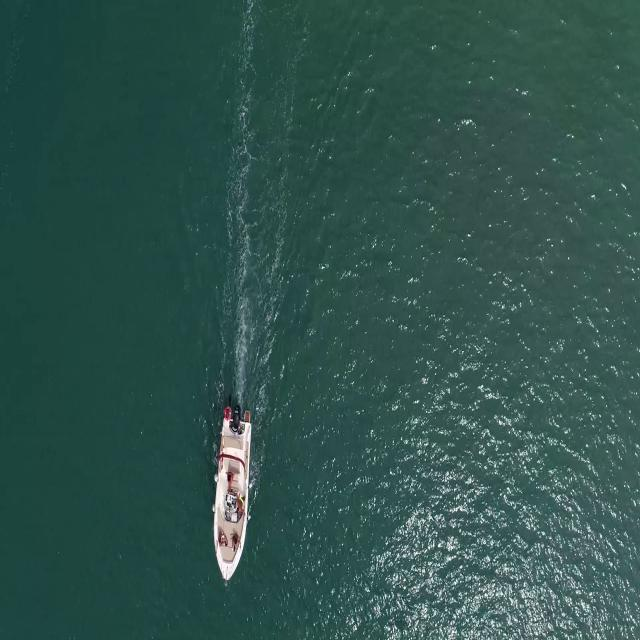boat: (210, 414, 253, 586)
life_buoy: (223, 406, 231, 419)
person: (215, 530, 228, 553), (236, 497, 247, 519), (224, 468, 234, 492), (231, 532, 240, 550)
